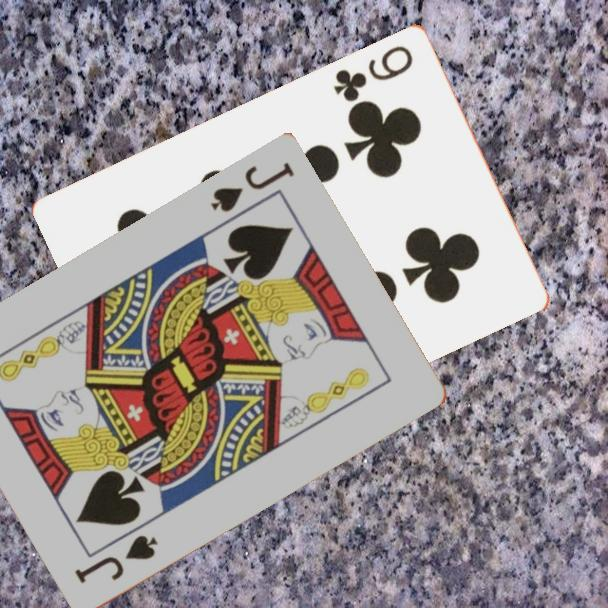c09: (330, 41, 416, 104)
s11: (70, 531, 162, 588), (206, 159, 297, 216)
